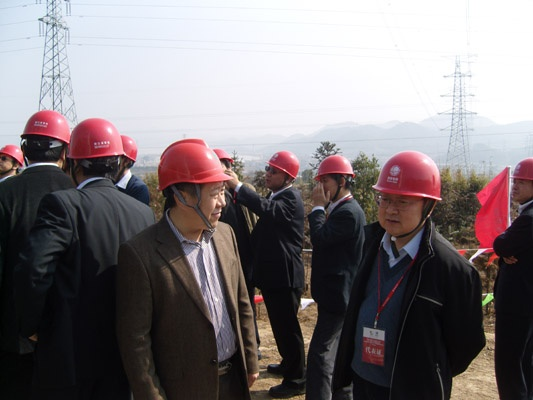red: (156, 137, 230, 233), (372, 151, 442, 235), (67, 117, 125, 184), (19, 111, 70, 166), (314, 153, 354, 199), (264, 150, 299, 188), (506, 156, 533, 203), (1, 144, 24, 177)
